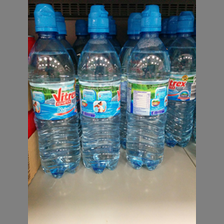water: (29, 2, 81, 180), (123, 5, 171, 171), (76, 5, 122, 176), (163, 10, 195, 148)
